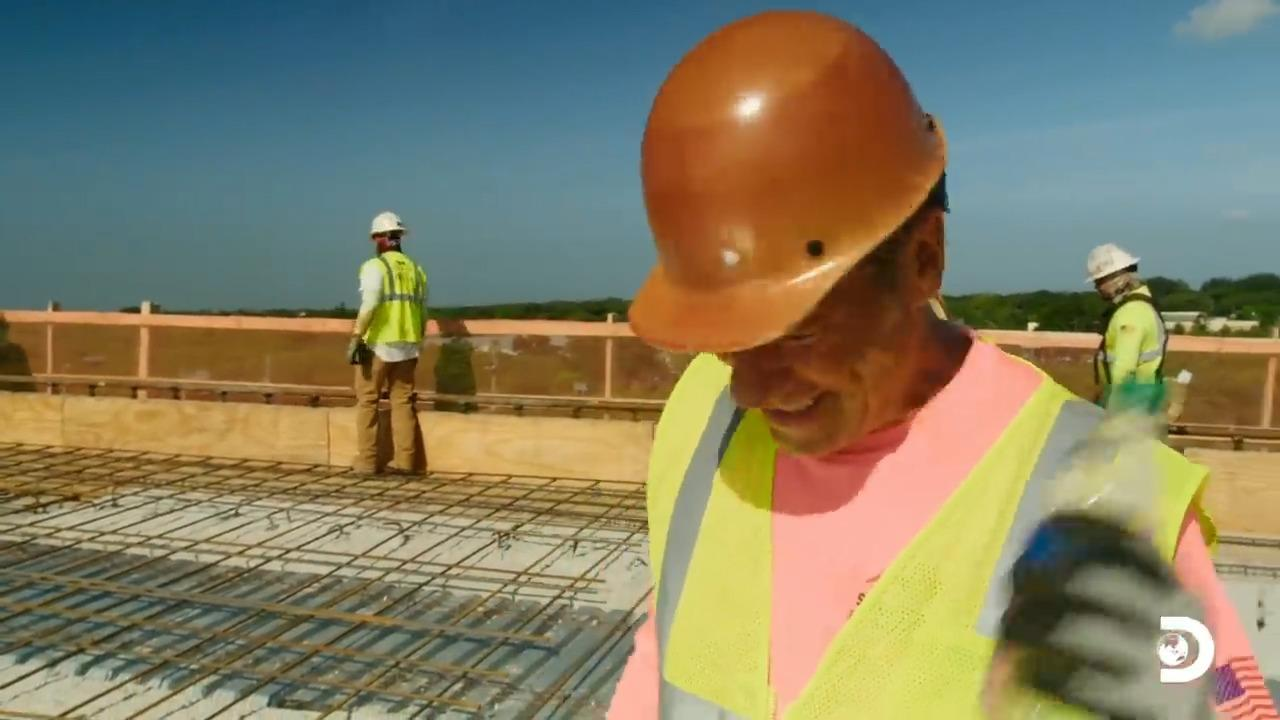Gloves: (1015, 506, 1239, 720)
Helmet: (618, 16, 898, 315), (1084, 242, 1140, 284), (369, 211, 407, 238)
Person: (610, 9, 1278, 719), (1084, 241, 1169, 441), (346, 251, 426, 455)
Safety Boot: (386, 461, 415, 482), (347, 465, 373, 482)
Safety Vest: (666, 441, 1115, 720), (360, 267, 421, 351), (1099, 308, 1159, 378)
